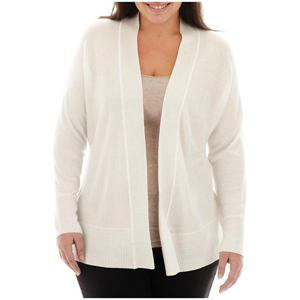S_cardigan sweater: (59, 24, 251, 279)
